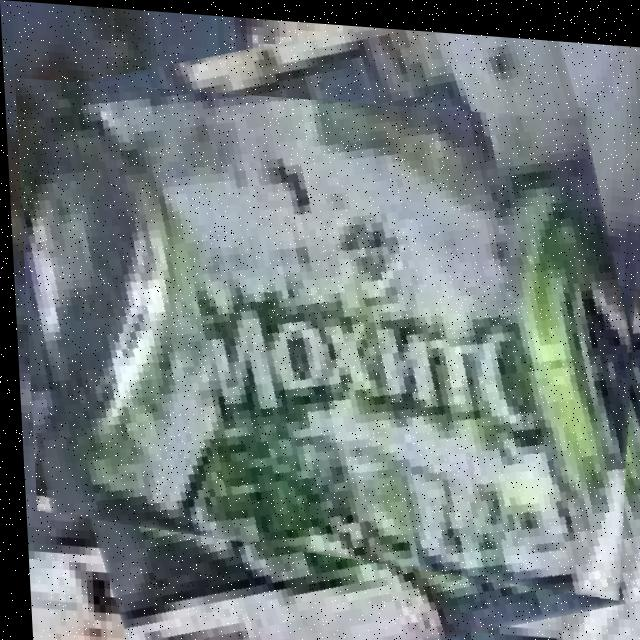litter: (20, 80, 634, 588)
